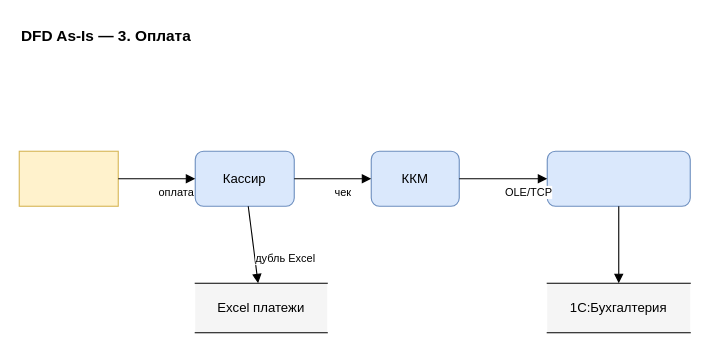
Image size: 710x352. Some labels were removed from this diagram. Each missing label, with the centre of its shape:
Windows Server / 1С: (618,178)
Пациент: (68,178)
